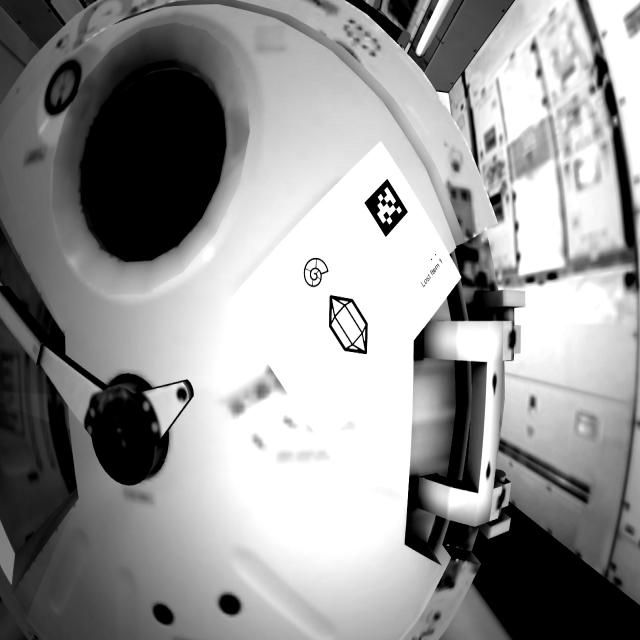crystal: (320, 283, 376, 368)
fossil: (297, 255, 335, 298)
